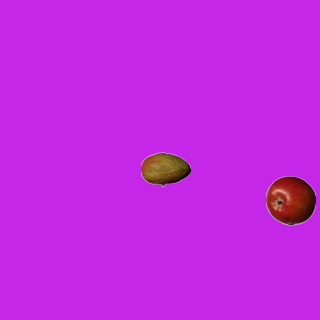Apple Braeburn: (265, 175, 315, 225)
Papaya: (140, 144, 190, 194)
